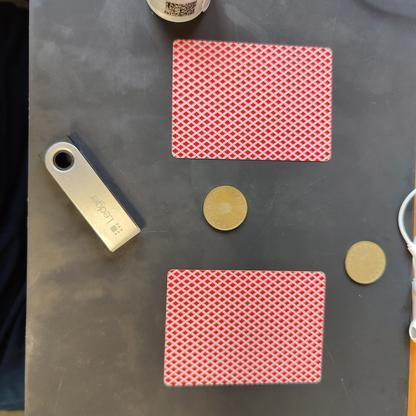card: (161, 35, 339, 173), (152, 258, 330, 396)
